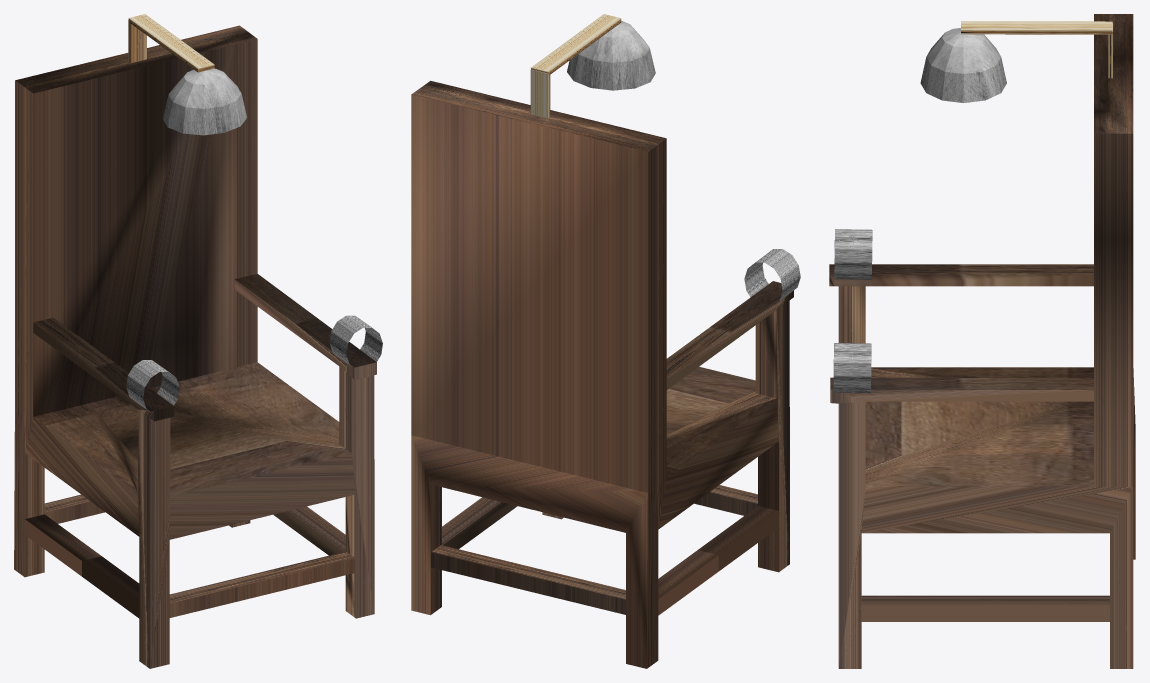
File: sediaelettrica_colorata.fbx
3 views of the same model, side by side, from view 1: azimuth 30°, elevation 25°; view 2: azimuth 150°, elevation 25°; view 3: azimuth 270°, elevation 25° (orthographic). The views are drawn at different scales.
Visible parts, largest first — view 1: Cube_1, Cube_2, Sphere, Cube_4, Generic_1, Generic, Cube_5, Cube_3; view 2: Cube_1, Cube_5, Sphere, Cube_4, Generic, Cube_2, Cube_3; view 3: Cube_1, Sphere, Cube_4, Generic, Generic_1.
Part boxes in pixels (left/top/right/bottom): Cube_1: left=14, top=25, right=376, bottom=668; Cube_2: left=169, top=551, right=355, bottom=617; Sphere: left=163, top=68, right=246, bottom=135; Cube_4: left=128, top=14, right=214, bottom=72; Generic_1: left=329, top=315, right=382, bottom=366; Generic: left=126, top=360, right=179, bottom=412; Cube_5: left=44, top=494, right=104, bottom=523; Cube_3: left=128, top=19, right=146, bottom=63; Cube_1: left=411, top=80, right=793, bottom=668; Cube_5: left=431, top=545, right=625, bottom=614; Sphere: left=567, top=21, right=655, bottom=90; Cube_4: left=531, top=14, right=621, bottom=75; Generic: left=744, top=249, right=800, bottom=301; Cube_2: left=694, top=485, right=757, bottom=515; Cube_3: left=530, top=69, right=550, bottom=118; Cube_1: left=829, top=14, right=1135, bottom=668; Sphere: left=920, top=28, right=1006, bottom=102; Cube_4: left=961, top=21, right=1112, bottom=34; Generic: left=834, top=229, right=872, bottom=279; Generic_1: left=833, top=343, right=871, bottom=392.
Bounding box in the file's own units: 1.28 × 2.72 × 1.29.
Materials: 3 (3 with a texture image).
